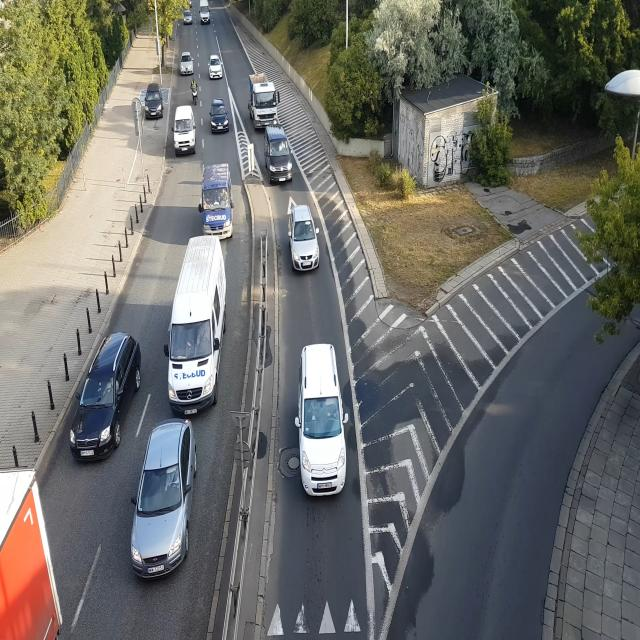car: (126, 418, 201, 592), (61, 328, 140, 462), (169, 230, 223, 416), (295, 342, 354, 507), (200, 155, 236, 241), (284, 206, 320, 280), (262, 124, 298, 188), (172, 106, 199, 160), (209, 97, 232, 133), (146, 84, 166, 119), (205, 54, 222, 82), (180, 45, 193, 76), (178, 8, 196, 28), (200, 0, 211, 28)
motorcycle: (188, 74, 202, 106)
truck: (0, 459, 69, 637), (244, 72, 283, 131)
